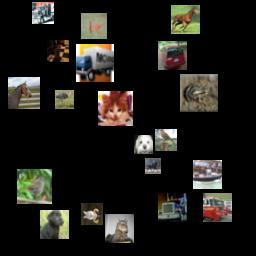automobile: (158, 41, 187, 70)
bird: (17, 169, 52, 204), (155, 129, 177, 151), (81, 203, 103, 225), (55, 90, 74, 109)
cat: (98, 91, 133, 126), (105, 214, 134, 243), (47, 40, 69, 62)
deer: (81, 13, 107, 39)
dog: (40, 210, 69, 239), (134, 135, 153, 154)
frog: (180, 74, 218, 112)
ship: (193, 160, 222, 189)
truck: (76, 44, 114, 82), (158, 193, 187, 222), (203, 193, 232, 222), (32, 2, 54, 24)
